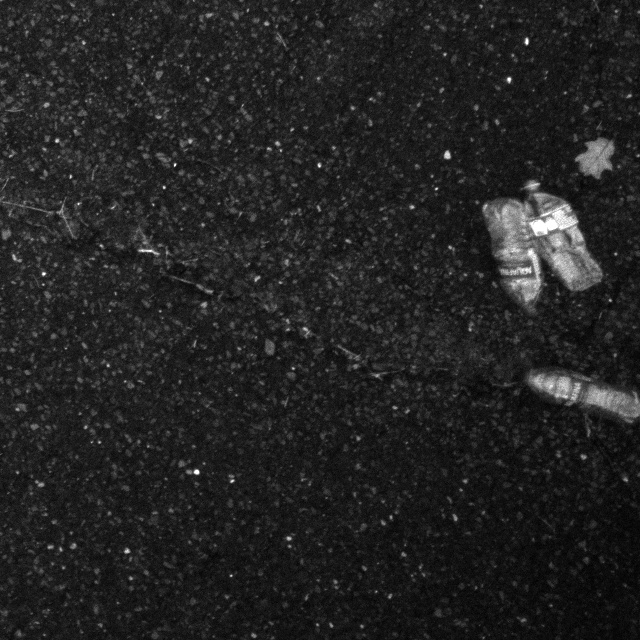bottle: (519, 174, 605, 298), (518, 350, 640, 436), (474, 184, 553, 315)
